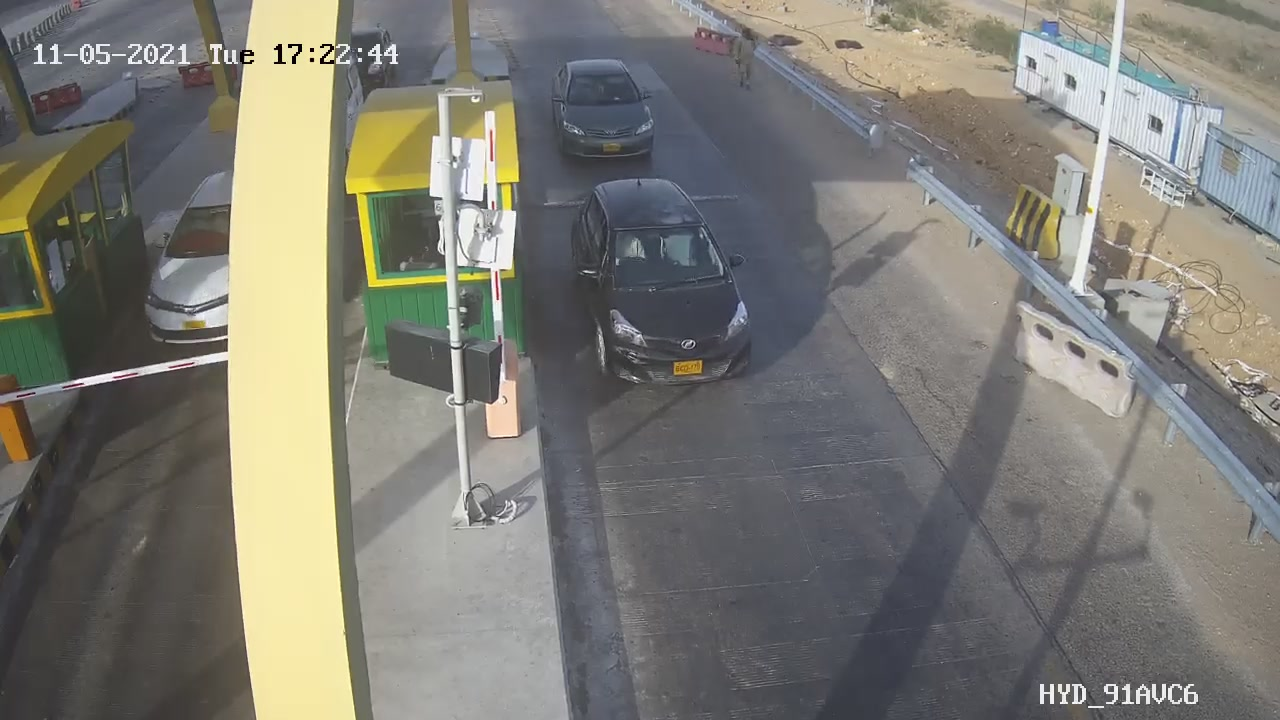F1: (555, 166, 773, 420), (535, 47, 673, 173)
